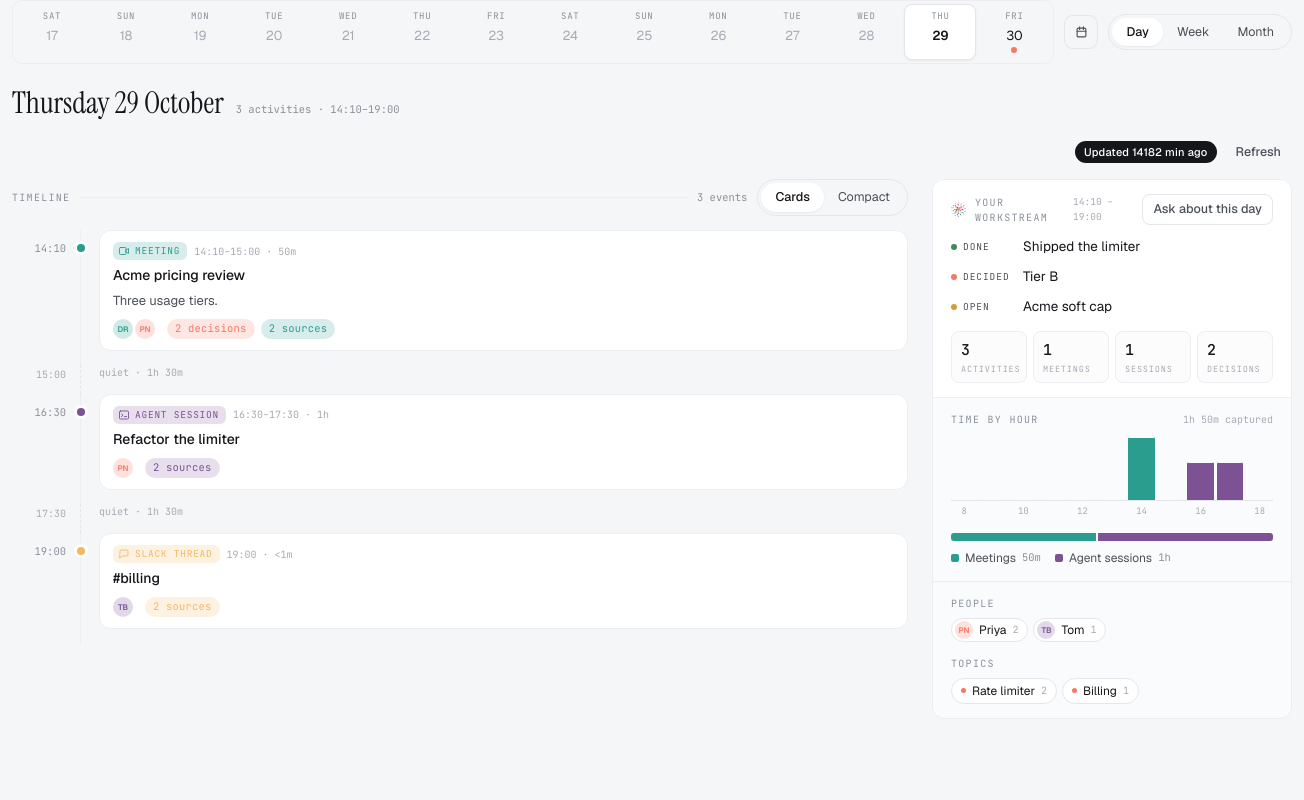
Test: Today, day view › leaves me out of People and filters the timeline from a chip, then clears it
expect the text "Acme pricing review" is shown: met, box [113,265,245,286]
What coordinates should you click on to do the following:
click the button "PN Priya 2"
I would click on:
 (990, 630)
Its box is [951,618,1028,642].
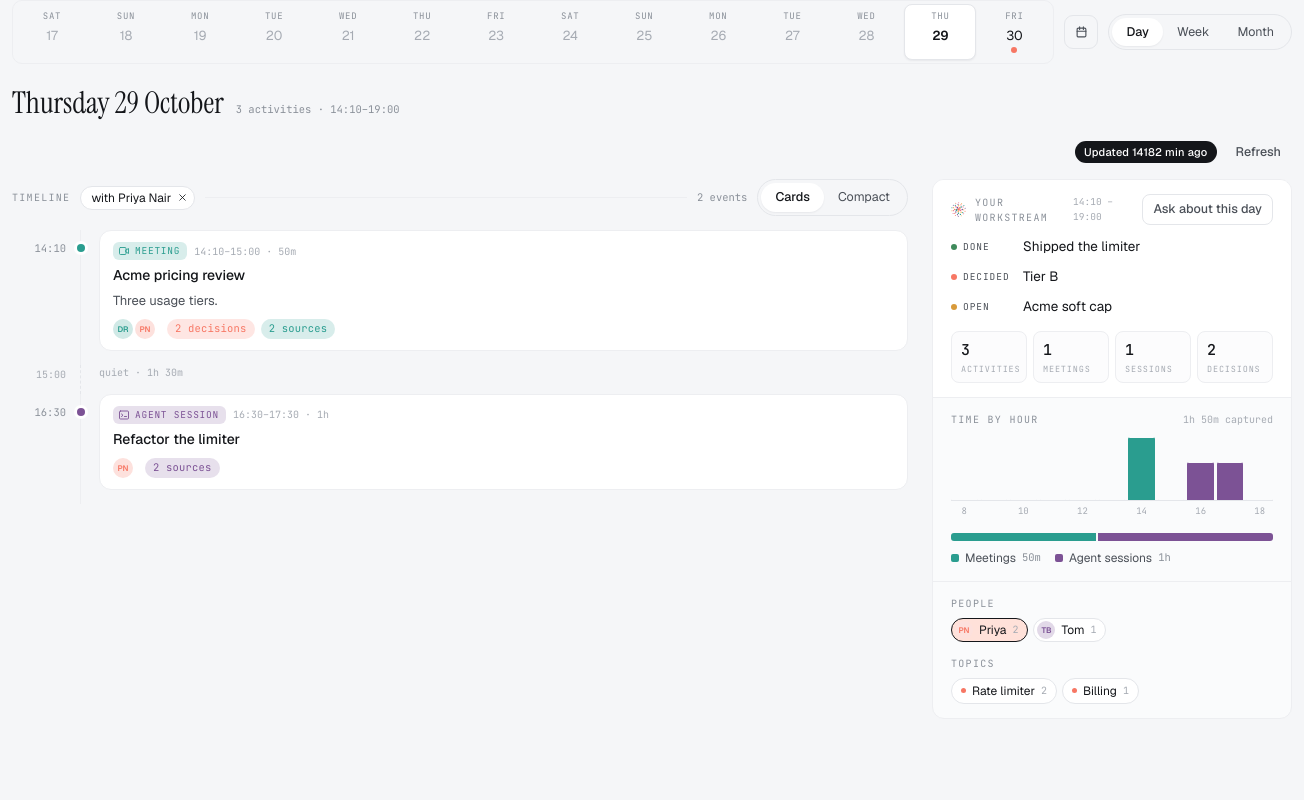
expect the button "with Priya Nair" is shown: met, box [80,186,195,210]
expect the text "2 events" is shown: met, box [697,190,747,206]
expect the button "#billing" is gone: met
The same chip again clears.
What coordinates should you click on to do the following:
click the button "PN Priya 2"
I would click on:
 (990, 630)
Its box is [951,618,1028,642].
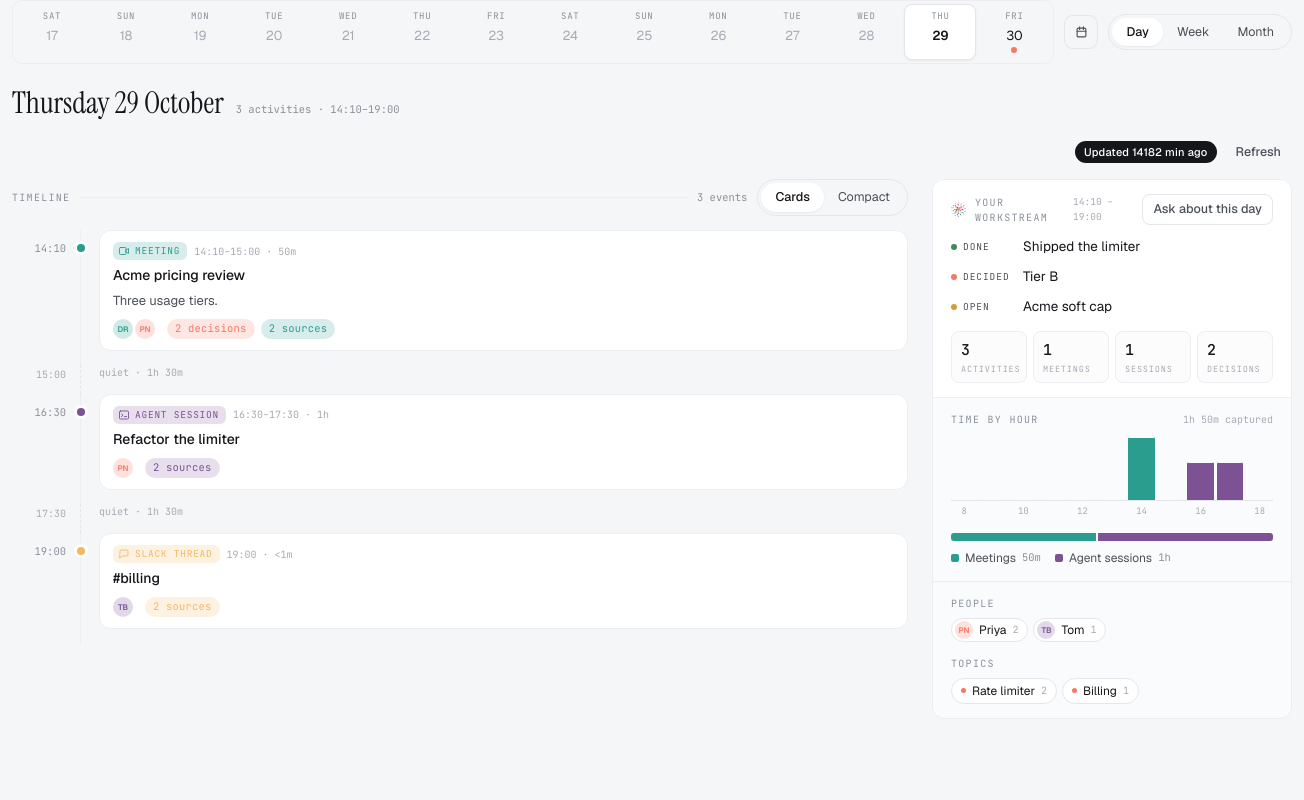
expect the text "3 events" is shown: met, box [697,190,747,206]
expect the button "with Priya Nair" is gone: met
A topic filters too, and the pill clears it.
What coordinates should you click on to do the following:
click the button "Billing 1"
I would click on:
 (1100, 691)
Its box is [1062,678,1139,704].
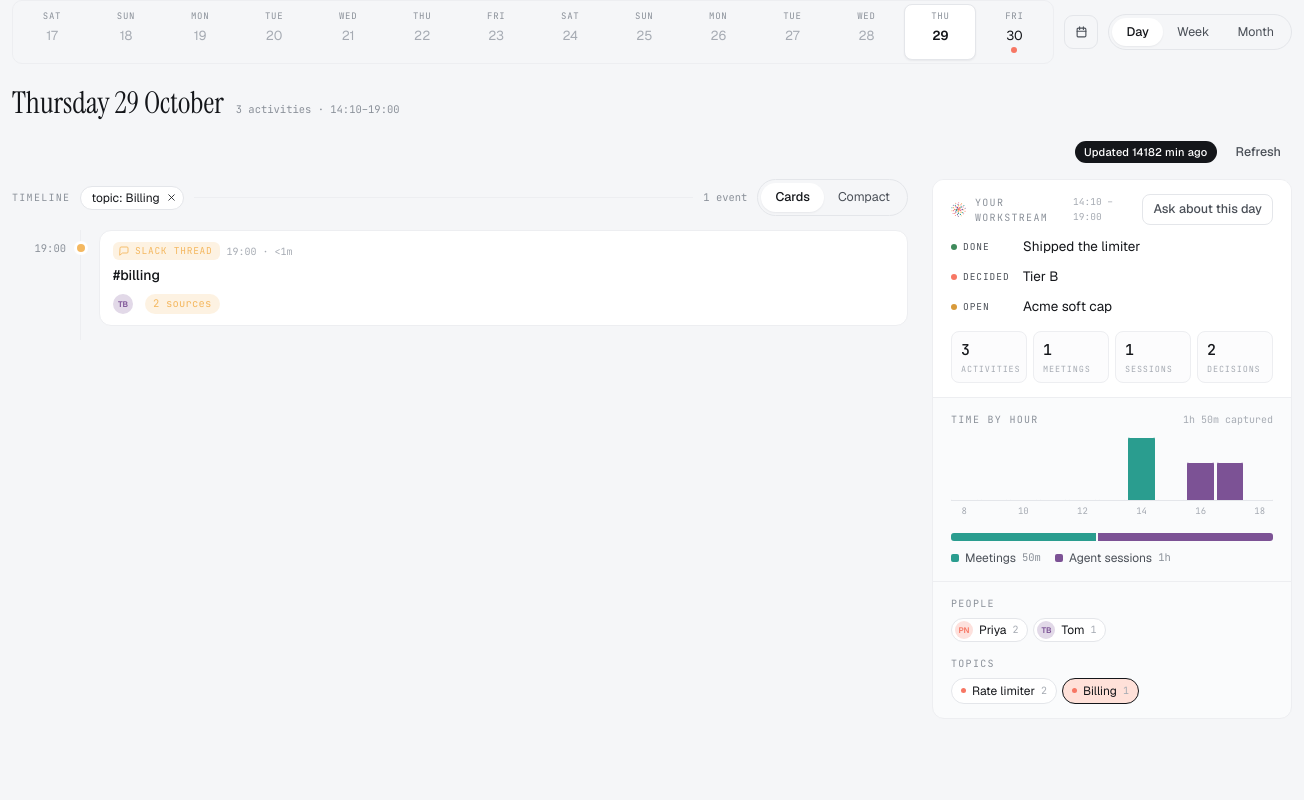
expect the text "1 event" is shown: met, box [703,190,747,206]
What coordinates should you click on to do the following:
click the button "topic: Billing"
I would click on:
 (132, 198)
Its box is [80,186,184,210].
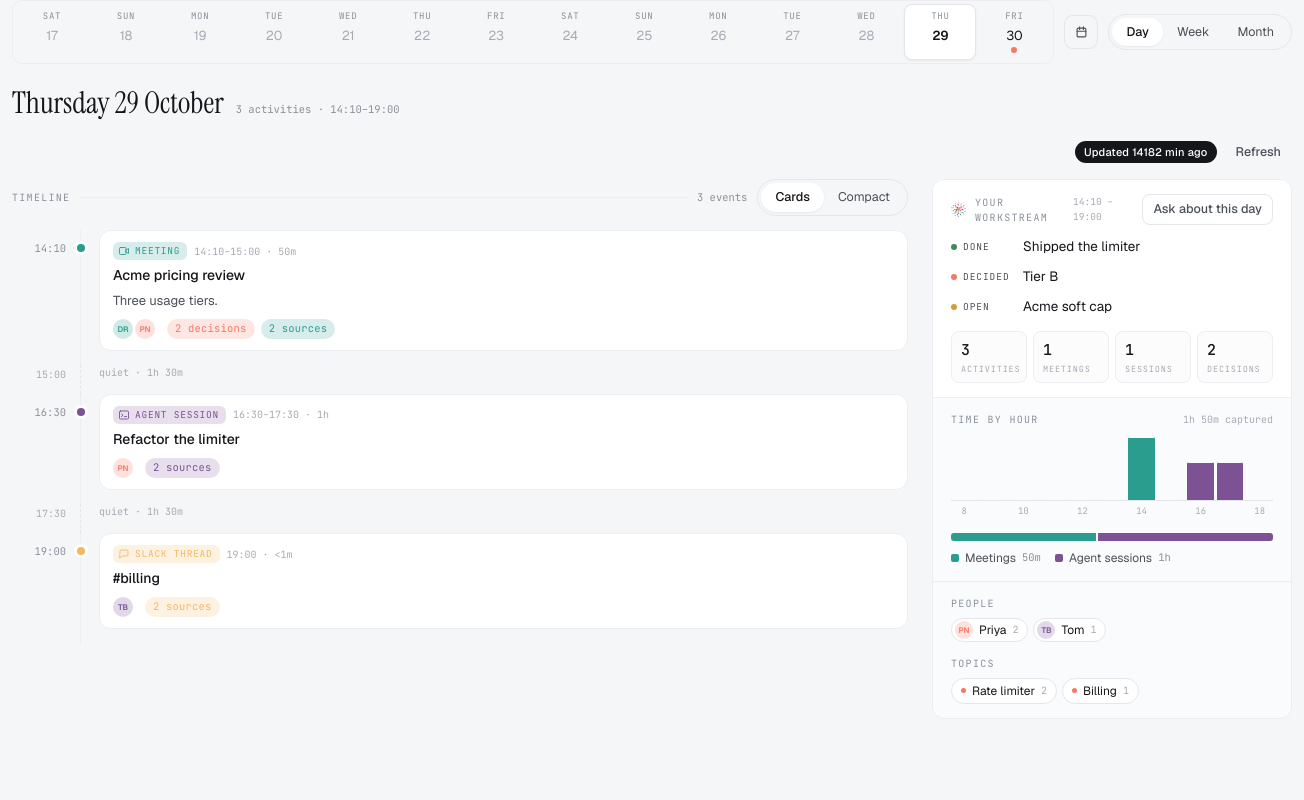
expect the text "3 events" is shown: met, box [697,190,747,206]
